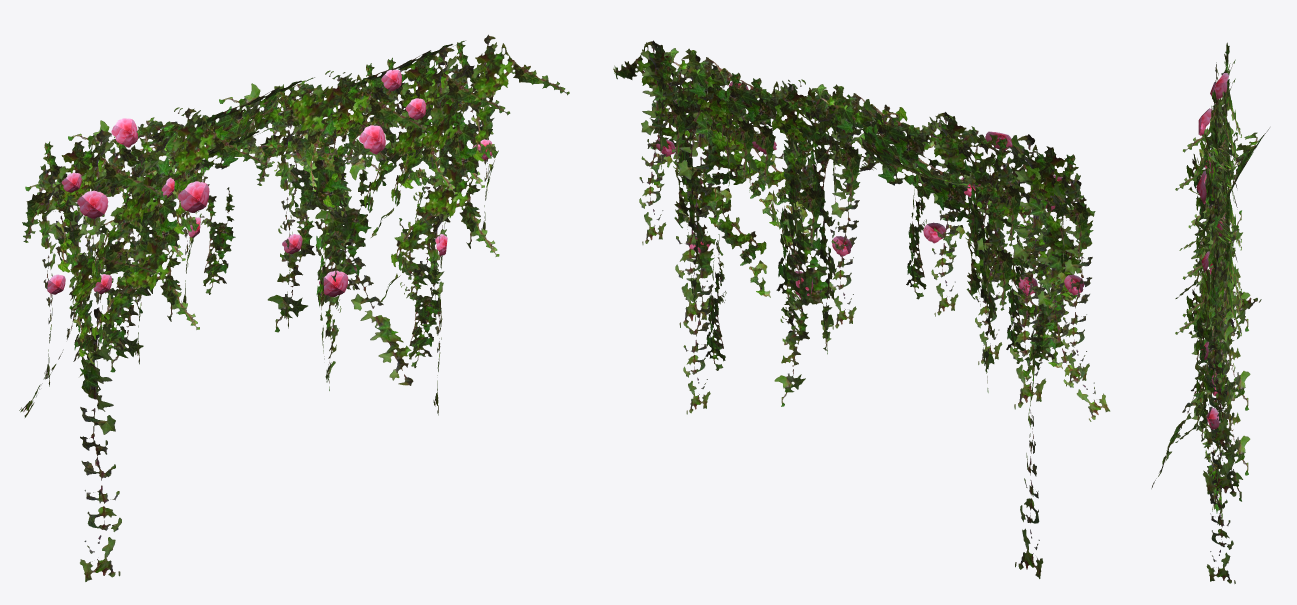
The model's file is ivy03_lod0.obj.
3 views of the same model, side by side, from view 1: azimuth 30°, elevation 25°; view 2: azimuth 150°, elevation 25°; view 3: azimuth 270°, elevation 25° (orthographic). The views are drawn at different scales.
Parts seen in each view (by area): view 1: ivy03_lod0.obj; view 2: ivy03_lod0.obj; view 3: ivy03_lod0.obj.
Part boxes in pixels (box(x1,y1,x2,y2)): ivy03_lod0.obj: box(19, 34, 569, 581); ivy03_lod0.obj: box(613, 40, 1110, 578); ivy03_lod0.obj: box(1151, 42, 1269, 583).
Size of the model in its own units: 2.4 by 2.03 by 0.5213.
2 materials, 2 textured.
